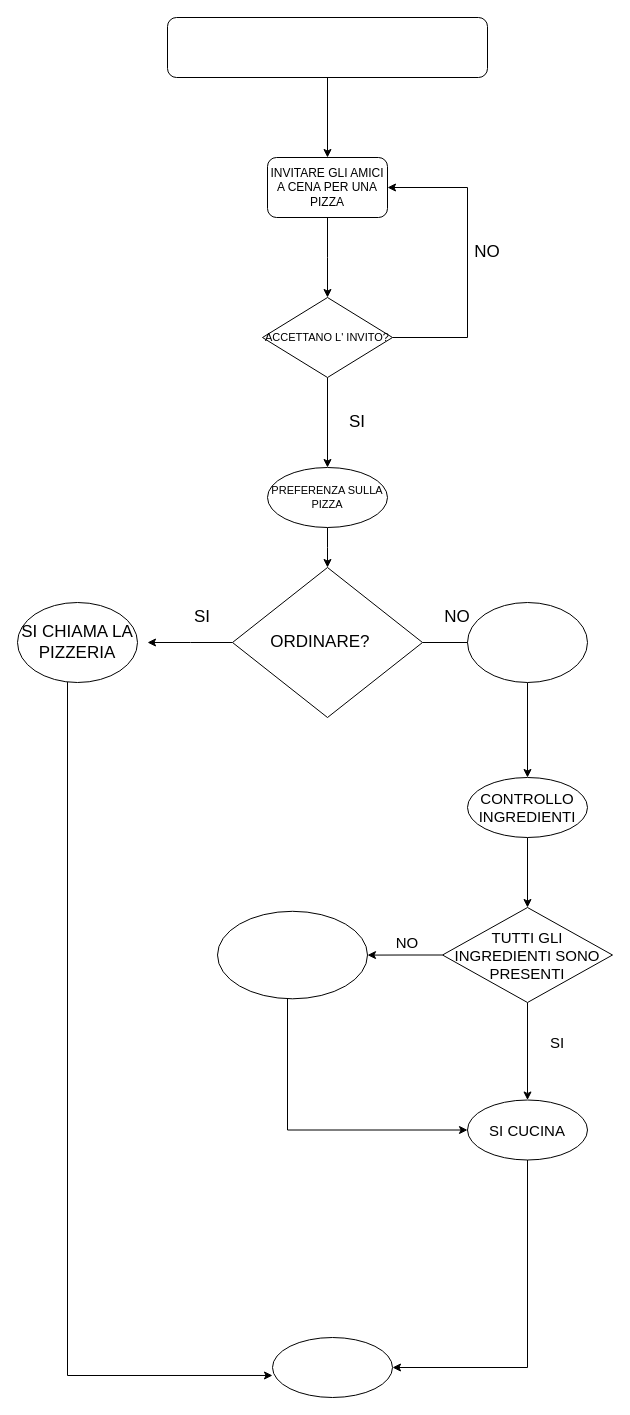
Image size: 630x1415. Some labels were removed from this diagram. The shapes that lost their labels are listed below. From the top down, each one's centre as x and y in pixels, then its label:
At pixel 327 47: "CENA".
At pixel 527 642: "PREPARAZION PIZZA IN CASA".
At pixel 292 954: "SI VA AL MERCATO A COMPRARE GLI INGREDIENTI".
At pixel 332 1367: "SI MANGIA".
